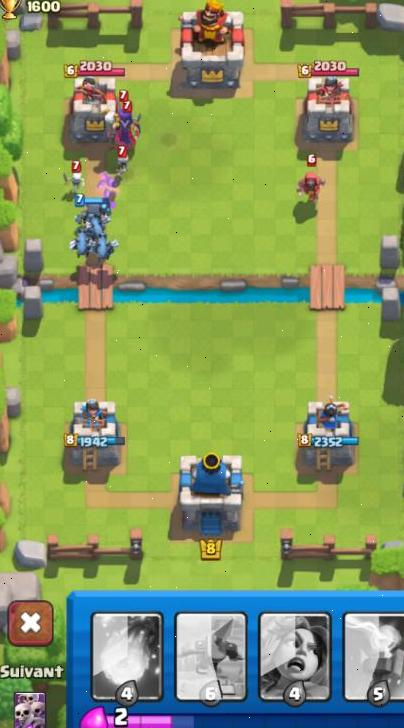enemy_skeletons: (62, 160, 90, 193), (110, 145, 133, 173)
enemy_witch: (103, 92, 148, 149)
enemy_wizard: (291, 151, 331, 208)
player_minions: (75, 194, 115, 230), (92, 232, 121, 262), (68, 227, 96, 257)
